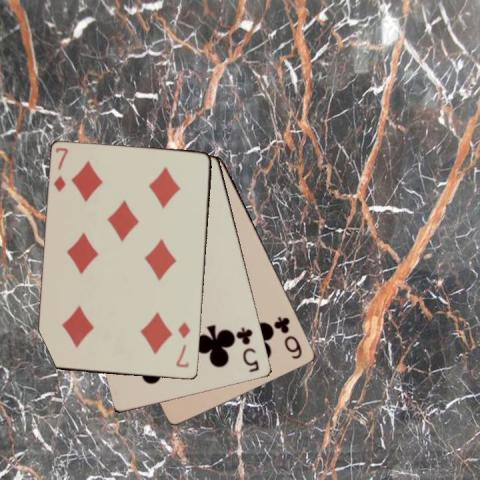5c: (235, 325, 261, 374)
6c: (271, 314, 304, 361)
7d: (174, 319, 192, 370), (51, 145, 70, 193)
